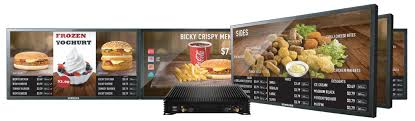coke: (176, 40, 232, 84)
